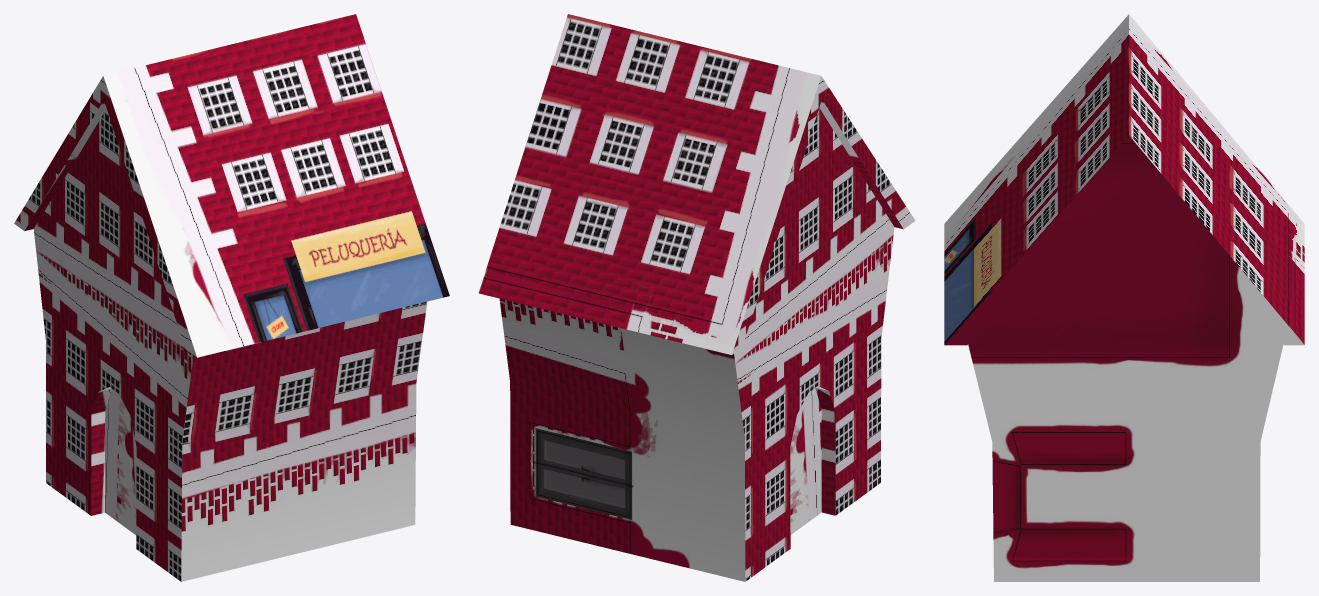
File: edificio2.FBX
3 views of the same model, side by side, from view 1: azimuth 30°, elevation 25°; view 2: azimuth 150°, elevation 25°; view 3: azimuth 270°, elevation 25° (orthographic).
Parts seen in each view (by area): view 1: Box002; view 2: Box002; view 3: Box002.
Boxes of the visible parts, bbox=[...] form: Box002: bbox=[14, 14, 449, 581]; Box002: bbox=[478, 14, 915, 581]; Box002: bbox=[944, 14, 1304, 581].
Bounding box in the file's own units: 32.38 × 56.12 × 40.65.
